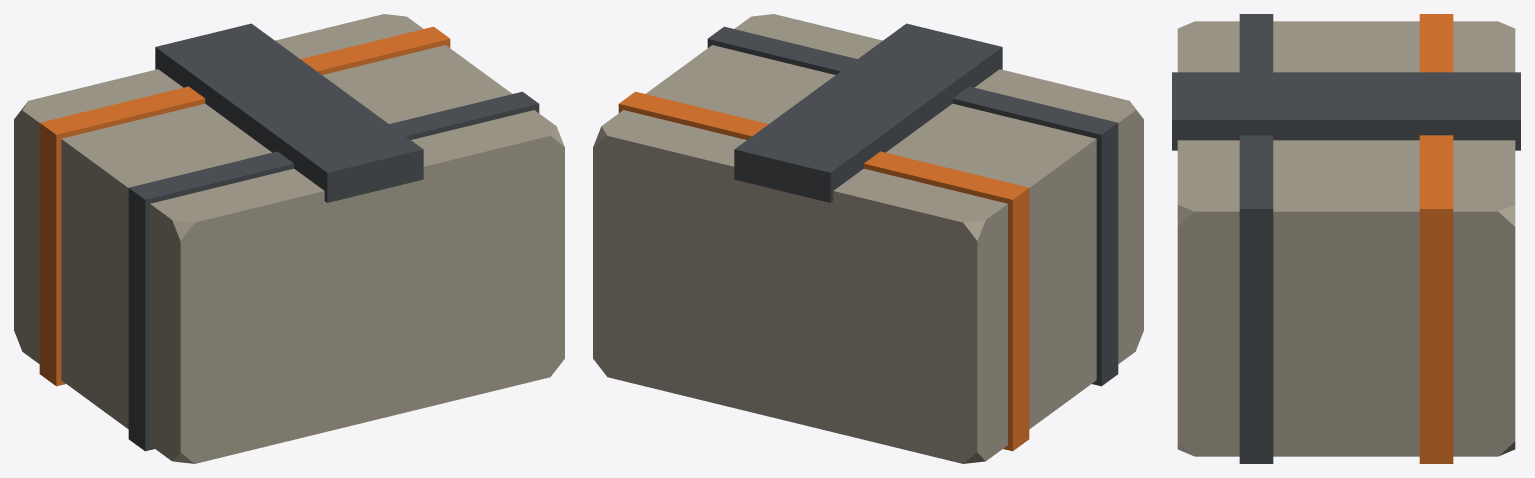
Rendered from hum_kit_crate.glb.
3 views of the same model, side by side, from view 1: azimuth 30°, elevation 25°; view 2: azimuth 150°, elevation 25°; view 3: azimuth 270°, elevation 25° (orthographic).
Visible parts, largest first — view 1: crate; view 2: crate; view 3: crate.
Boxes of the visible parts, bbox=[...] form: crate: bbox=[14, 14, 564, 463]; crate: bbox=[593, 14, 1143, 463]; crate: bbox=[1172, 14, 1520, 463].
Bounding box in the file's own units: 4.1 × 2.65 × 3.1.
1 material, 1 textured.
